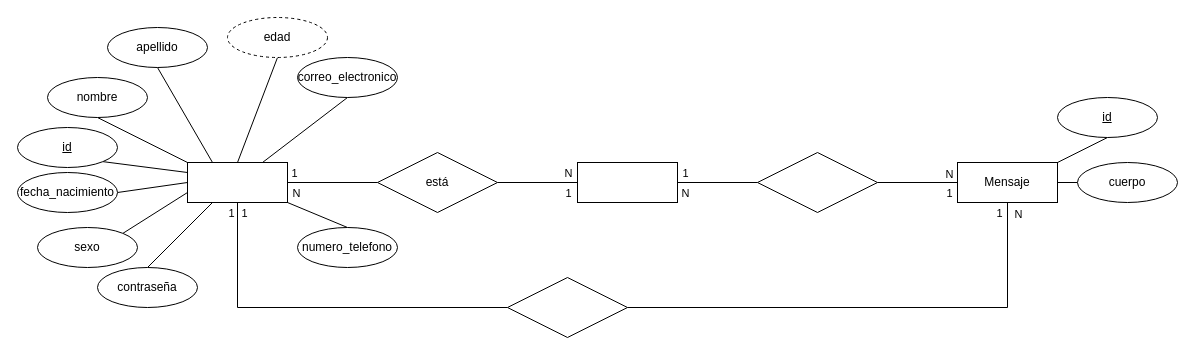
This 1195x355 diagram has some shape labels left out. The shapes that lost their labels are listed below. From the top down, each one's centre as x and y in pixels, then its label:
At (237,182): "Usuario".
At (627,182): "Conversación".
At (817,182): "tiene/está".
At (567,307): "envía".
